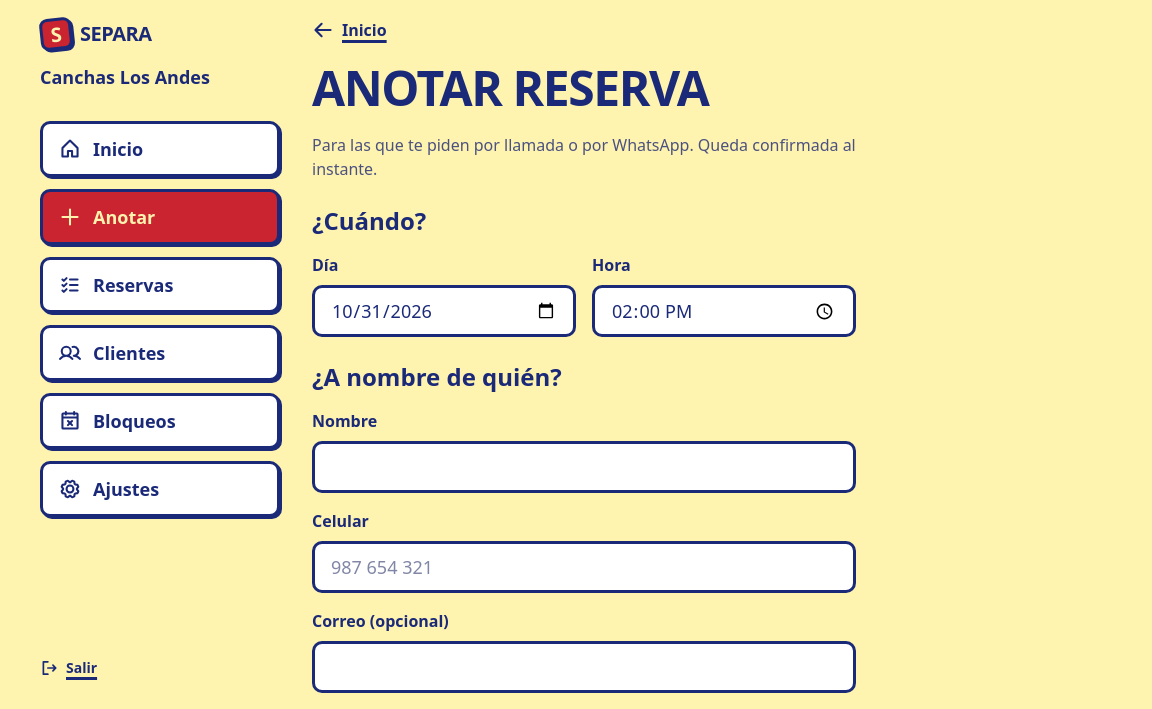
writing down a booking › explains a block in the schedule
The width and height of the screenshot is (1152, 709).
Type "2030-01-07" into the date field labelled "Día" at (444, 311), box [312,285,576,337]
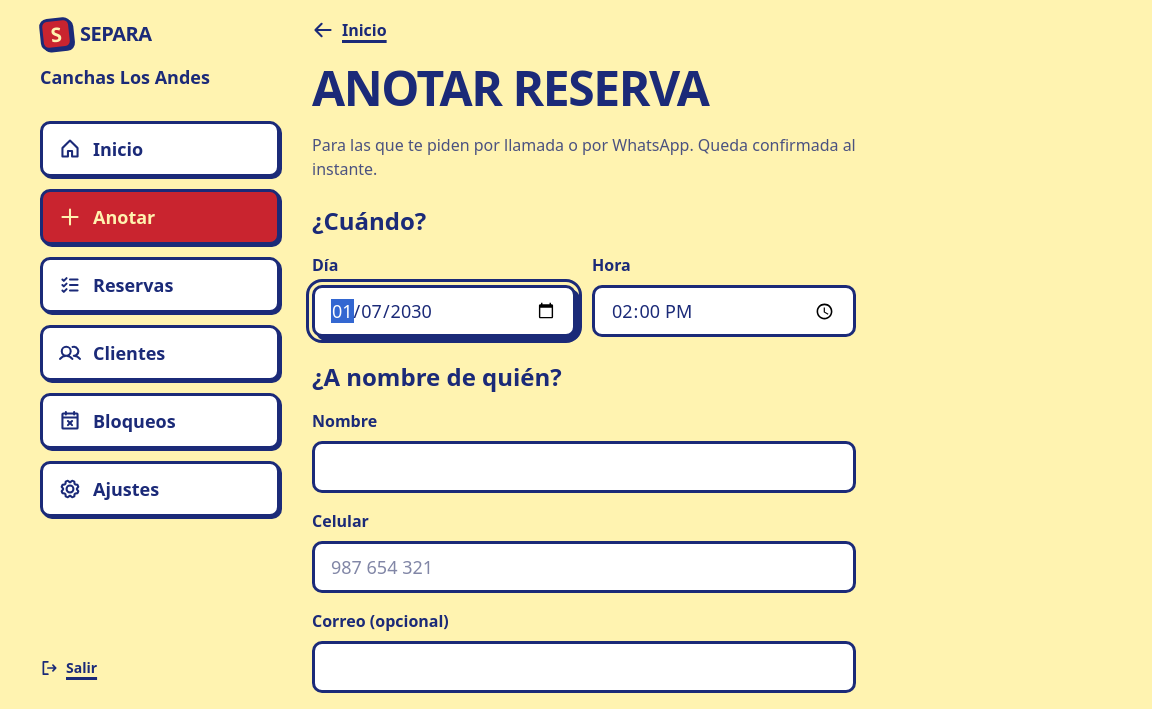
Replace the text in the time field labelled "Hora" with "19:00" at (724, 311), box [592,285,856,337]
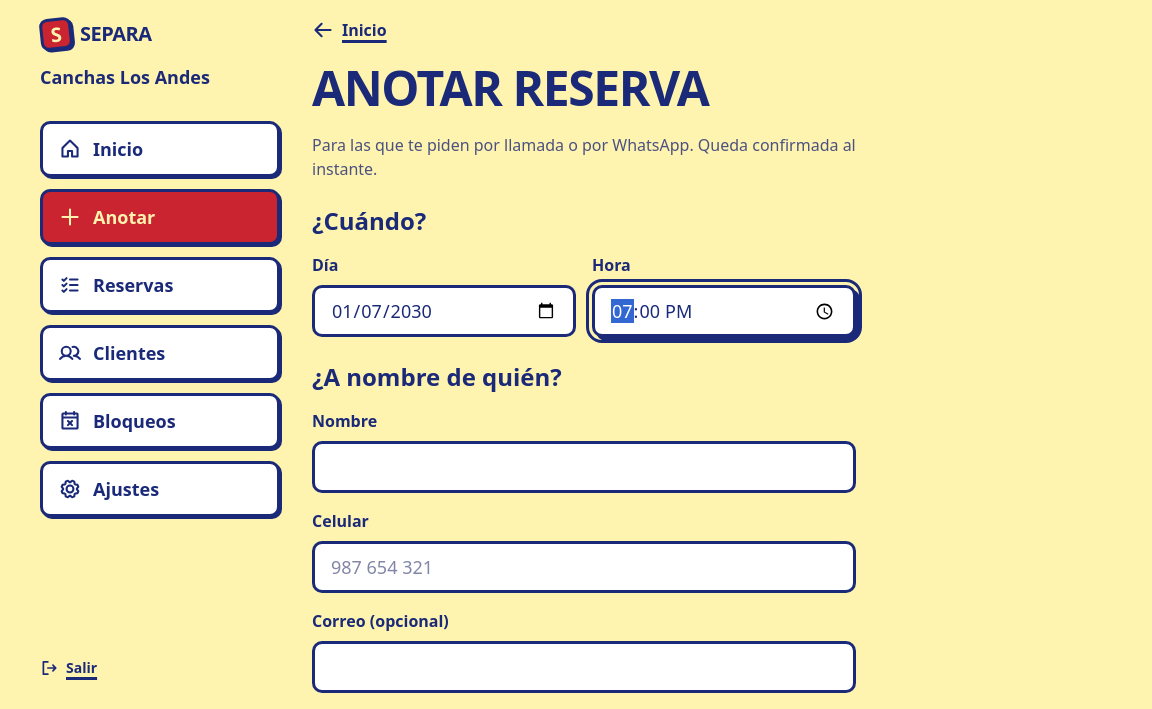
Type "Marta Díaz" into the field labelled "Nombre" at (584, 467), box [312,441,856,493]
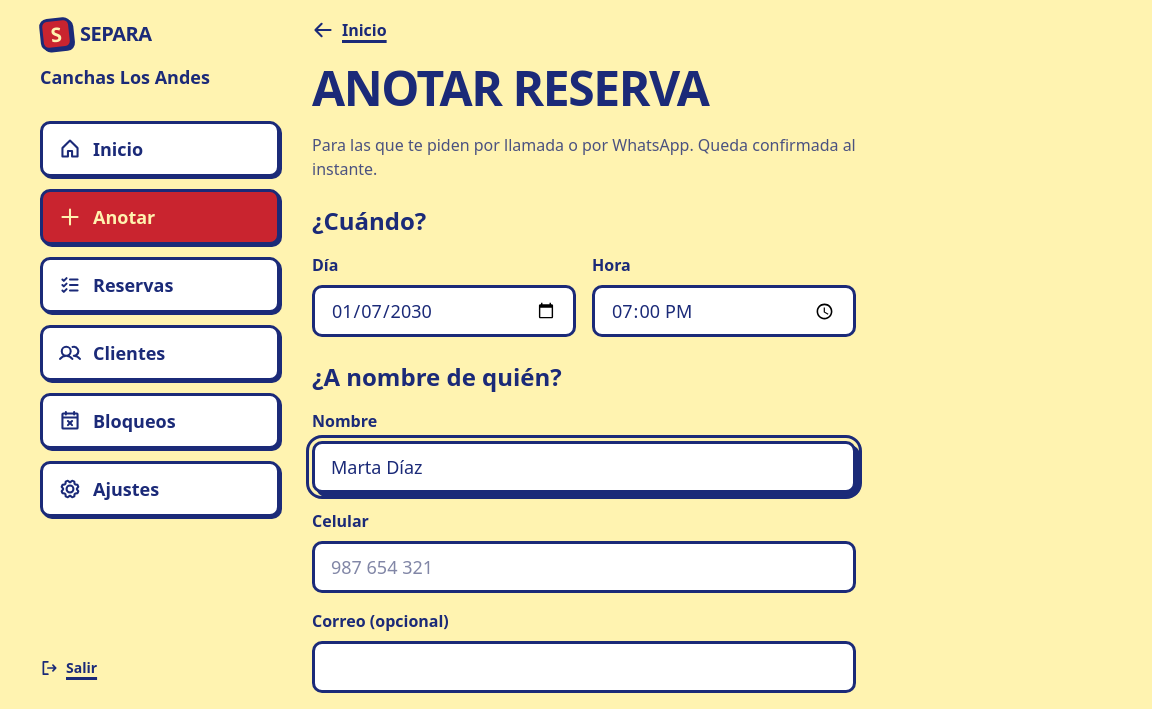
Type "955 111 222" into the field labelled "Celular" at (584, 567), box [312,541,856,593]
(page scrolled)
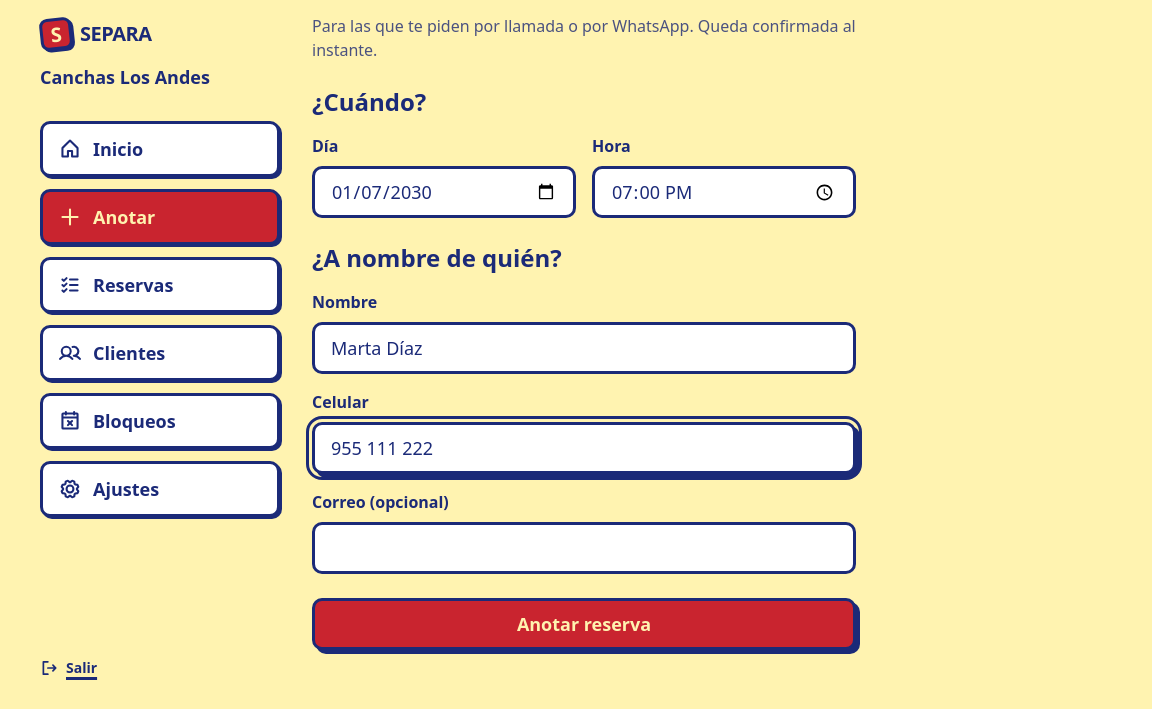
Click the button "Anotar reserva" at (584, 624), box [312,598,856,650]
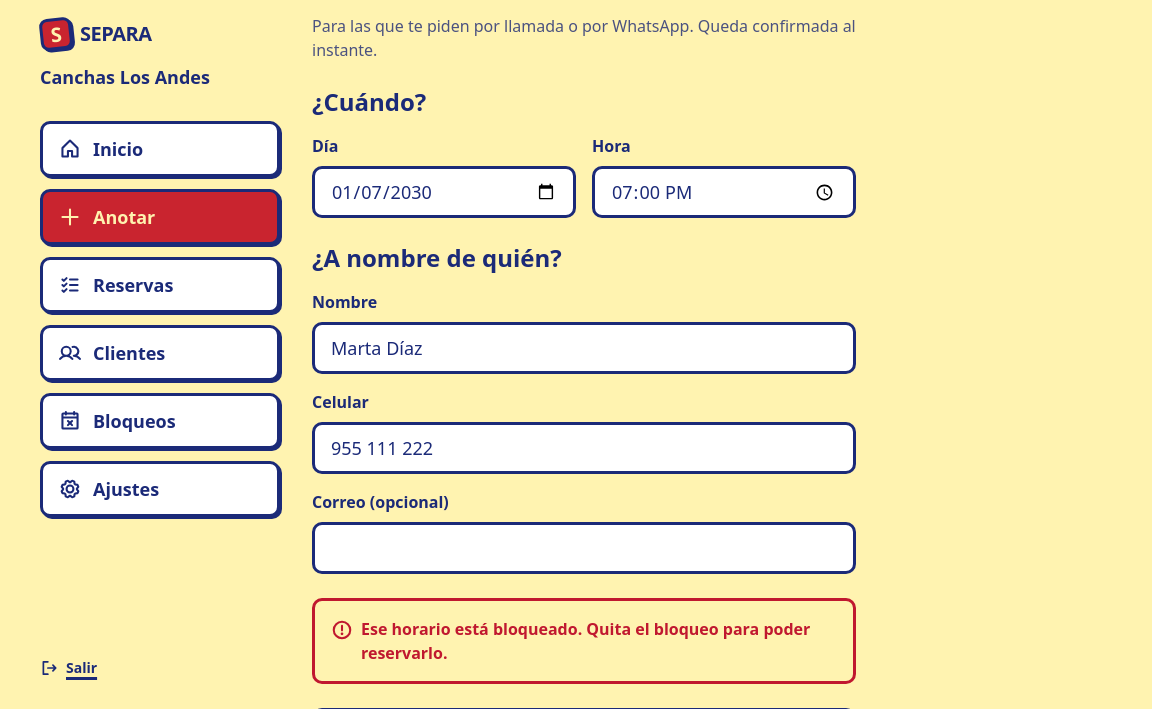
Now the message shows "Ese horario está bloqueado", box [361,618,810,664]
